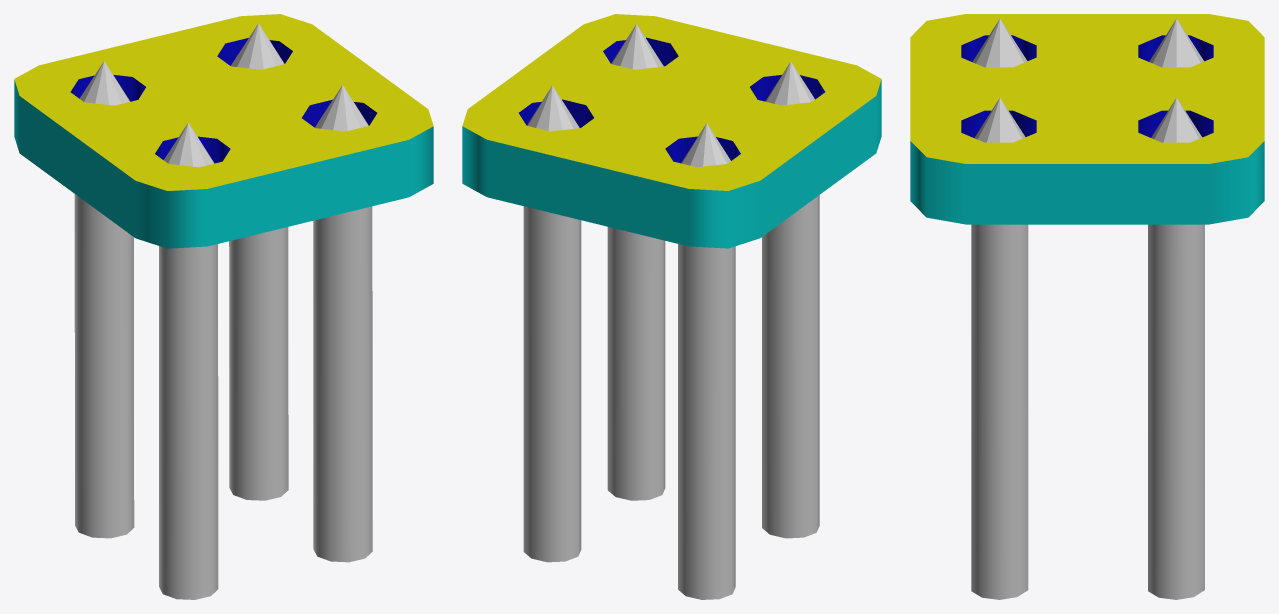
File: Trampa_pinchos.fbx
3 views of the same model, side by side, from view 1: azimuth 30°, elevation 25°; view 2: azimuth 150°, elevation 25°; view 3: azimuth 270°, elevation 25° (orthographic). The views are drawn at different scales.
Visible parts, largest first — view 1: polySurface7209, polySurface7212; view 2: polySurface7209, polySurface7212; view 3: polySurface7212, polySurface7209.
Part boxes in pixels (x1,y1,x2,y2): polySurface7209: (74, 23, 372, 599); polySurface7212: (14, 14, 433, 248); polySurface7209: (523, 24, 819, 599); polySurface7212: (462, 14, 881, 248); polySurface7212: (910, 14, 1264, 224); polySurface7209: (971, 18, 1204, 599).
Size of the model in its own units: 0.6644 by 1.01 by 0.6631.
